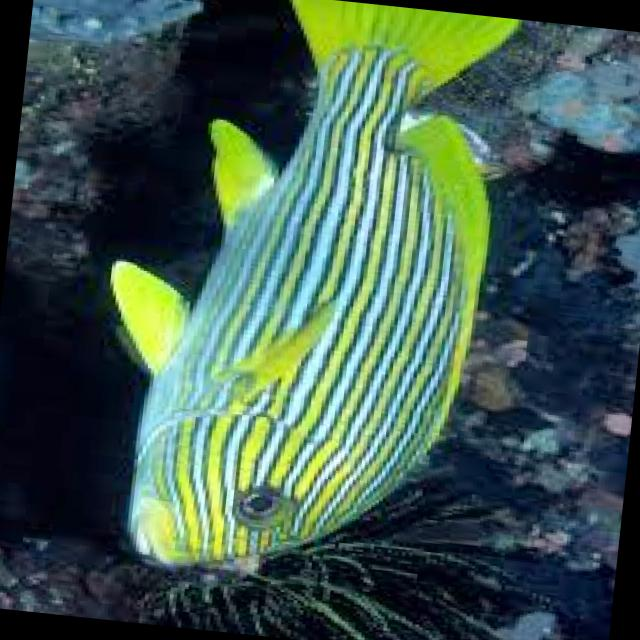RibbonedSweetlips: (76, 0, 527, 600)
